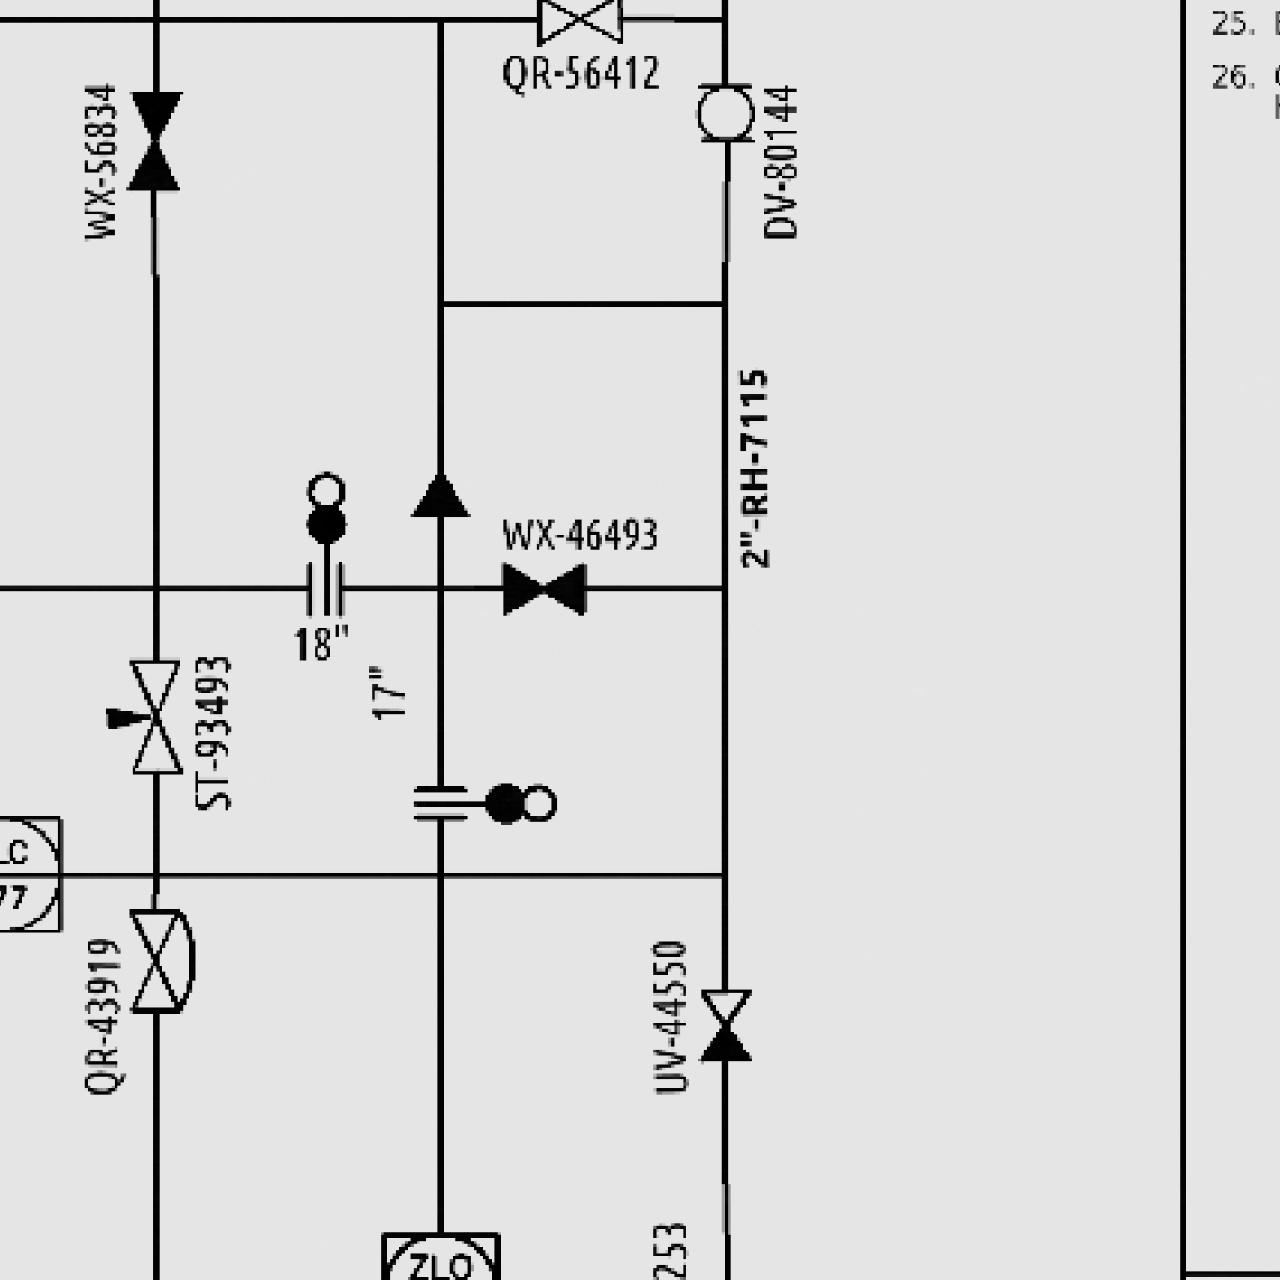Half closed valve: (694, 983, 755, 1065)
